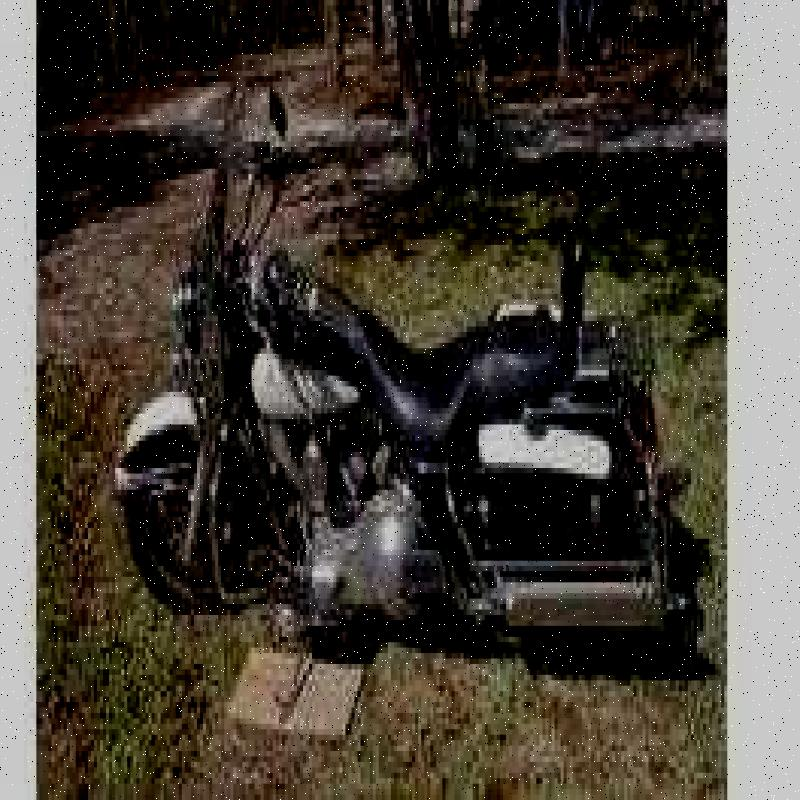bike: (128, 95, 680, 637)
